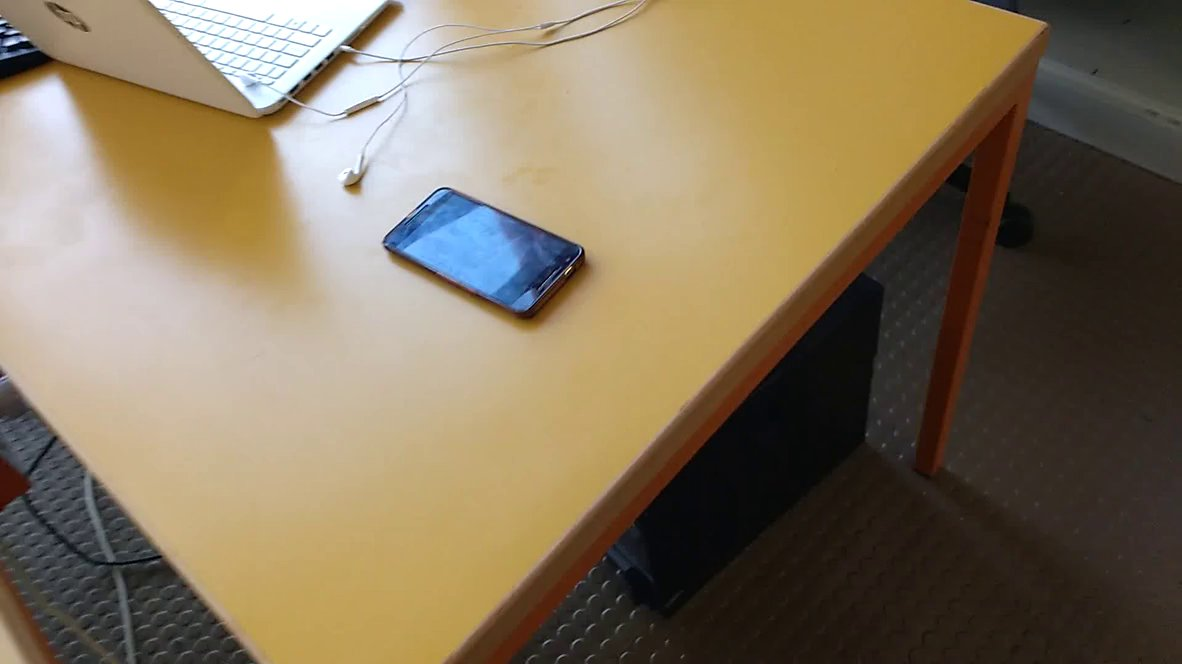phone: (378, 181, 598, 337)
